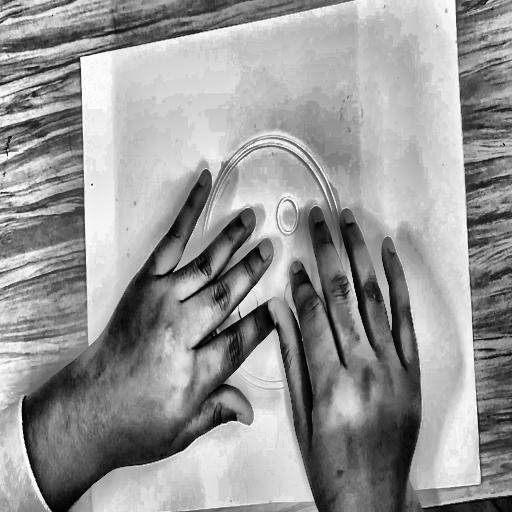bottom_right: (477, 476, 486, 488)
button: (190, 114, 358, 406)
top_left: (78, 53, 84, 62)
